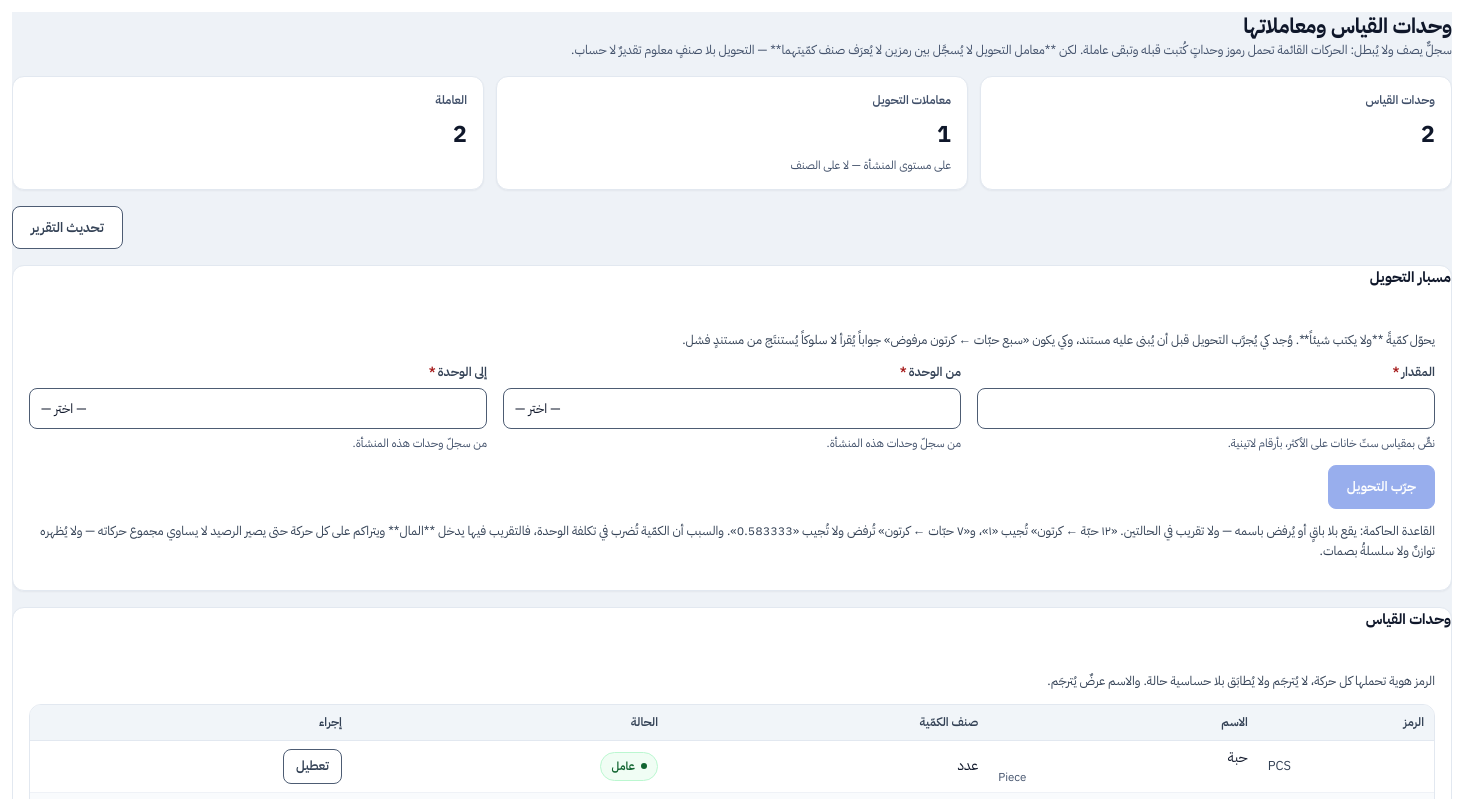
Scenario: مسبار التحويل — رفضٌ مُسمّى لا رقمٌ مقرَّب › جوابُ التحويل المضبوط يُعرض كمّيتين ومعاملاً، بلا حسابٍ في المتصفّح
Type "12" into the field with test id "probe-magnitude".
click(1206, 409); type("12")  # box [977,388,1435,429]
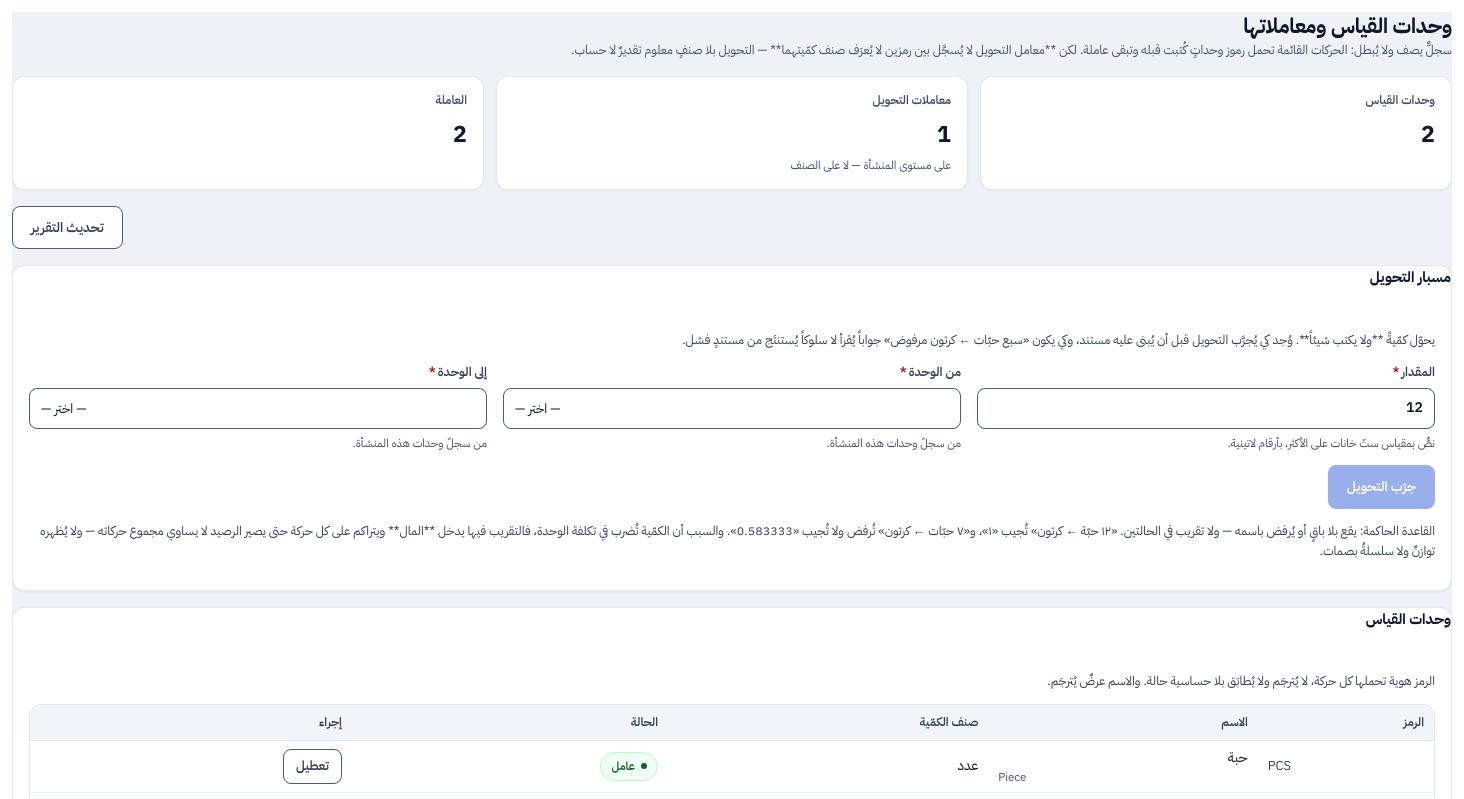
Select "PCS" in the dropdown with test id "probe-from" at (732, 409), box [503,388,961,429]
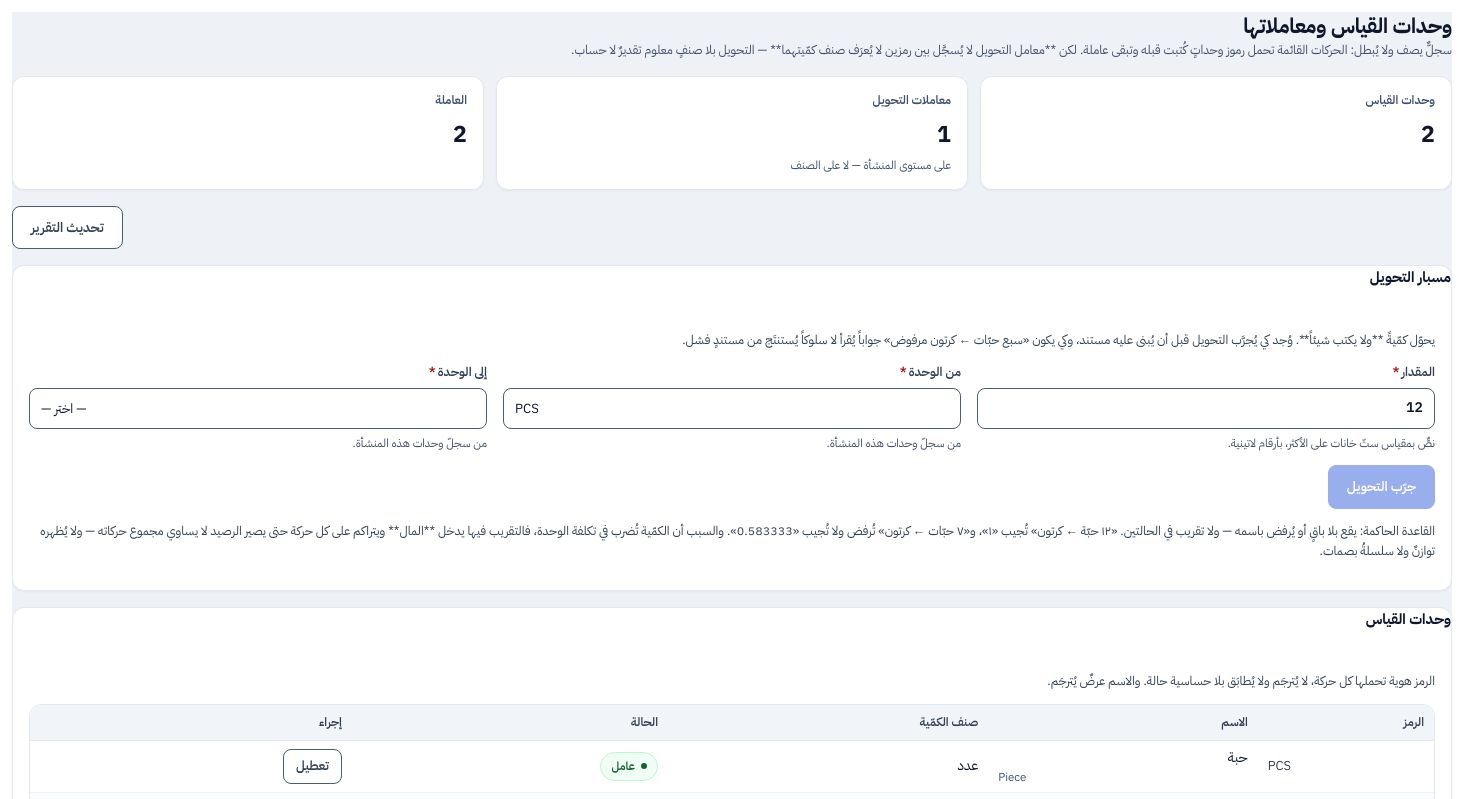
Select "KG" in the dropdown with test id "probe-to" at (258, 409), box [29,388,487,429]
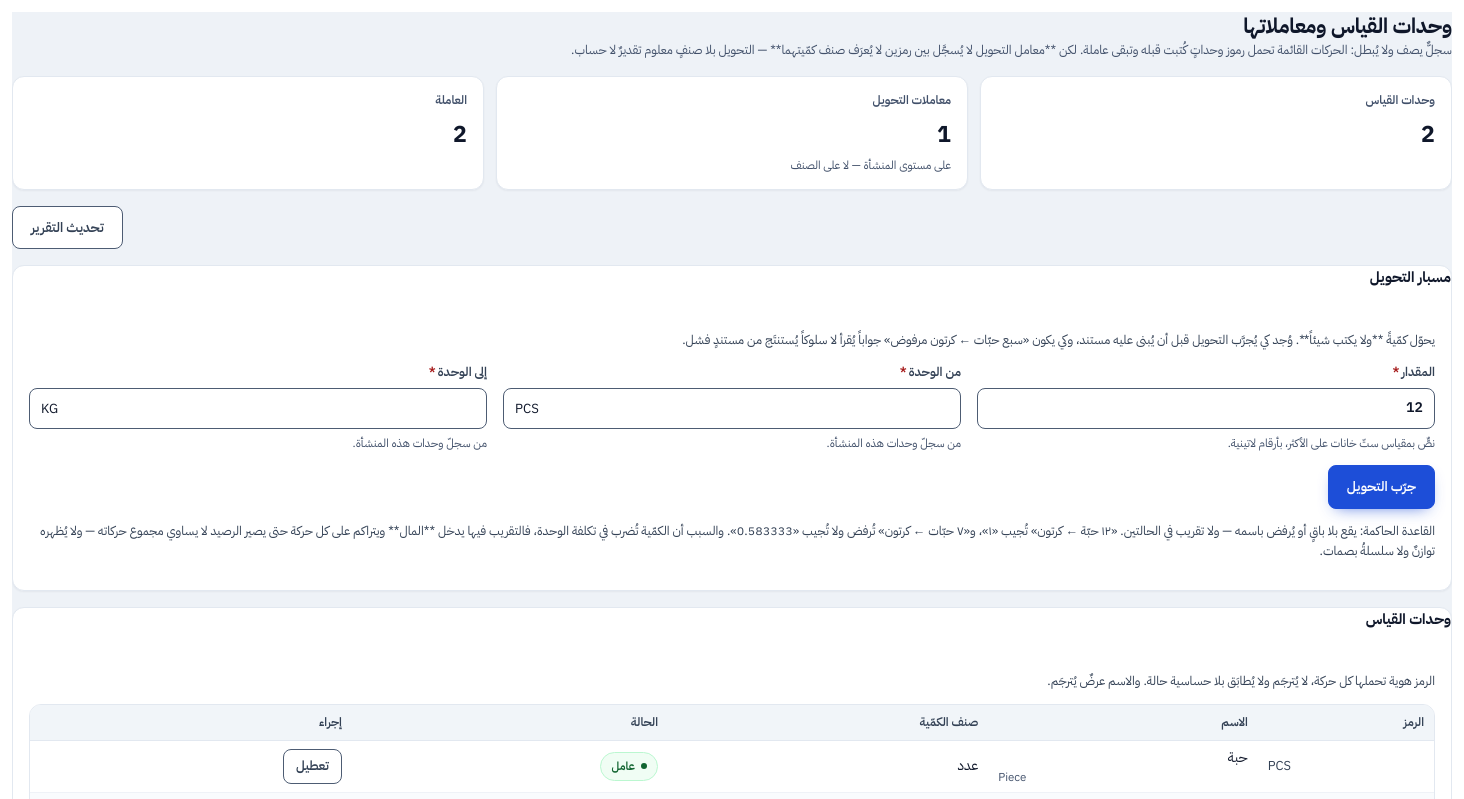
Click the button with test id "probe-run".
click(1381, 487)  # box [1328,465,1435,509]
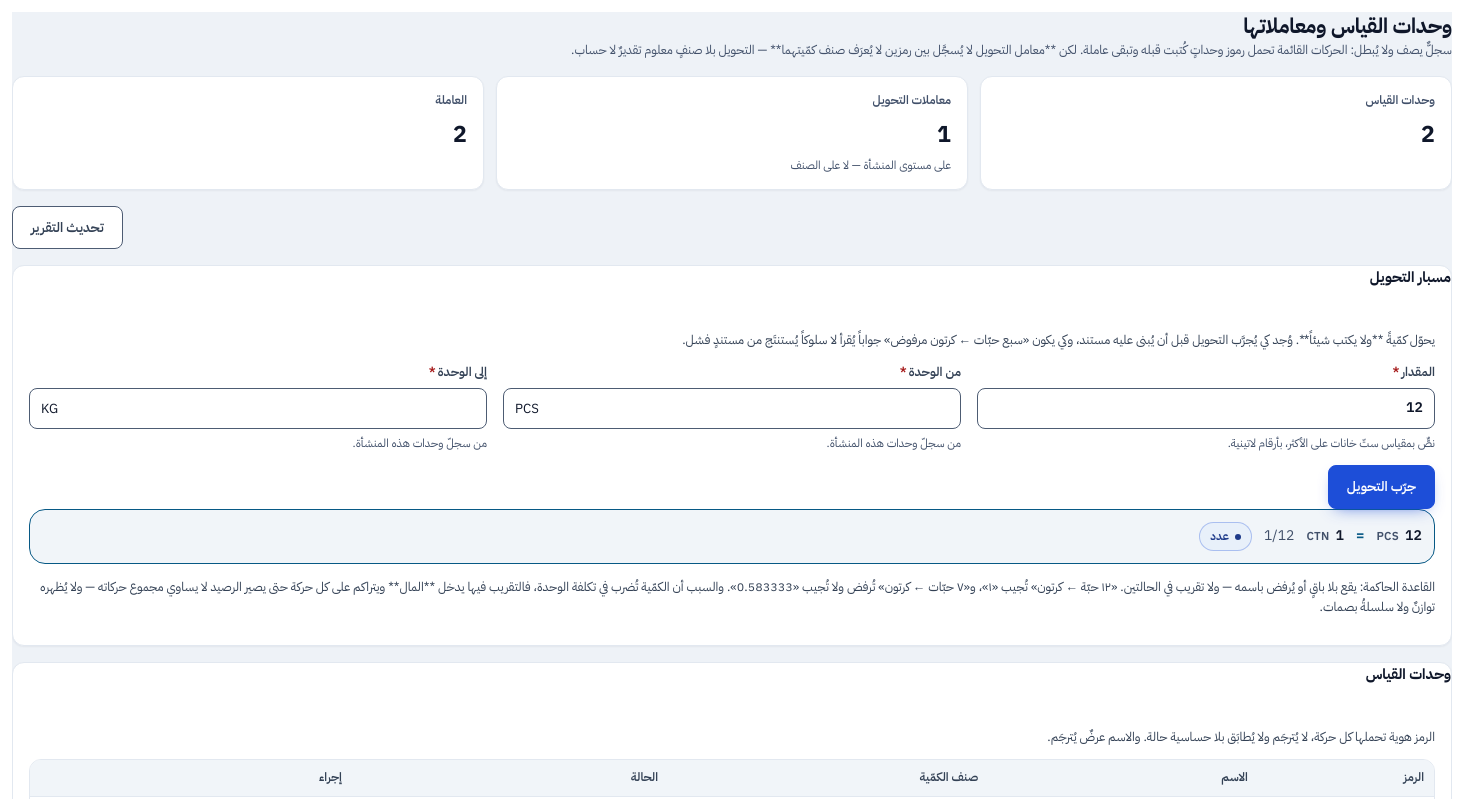
expect the element with test id "probe-to-value" shows "CTN": met, box [1306,528,1330,544]
expect the text with test id "probe-factor" reads "1/12": met, box [1264,524,1294,546]
